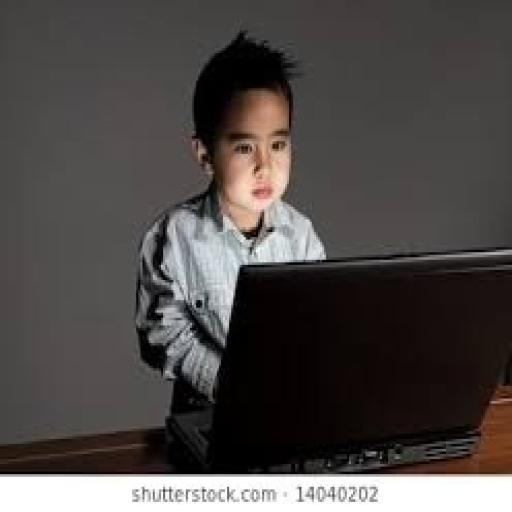using_laptop: (163, 244, 510, 472)
